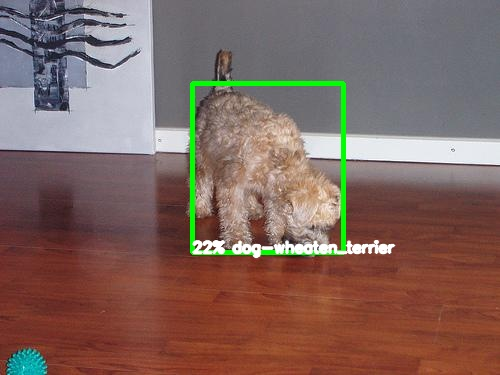dog-wheaten_terrier: (282, 183, 341, 256)
